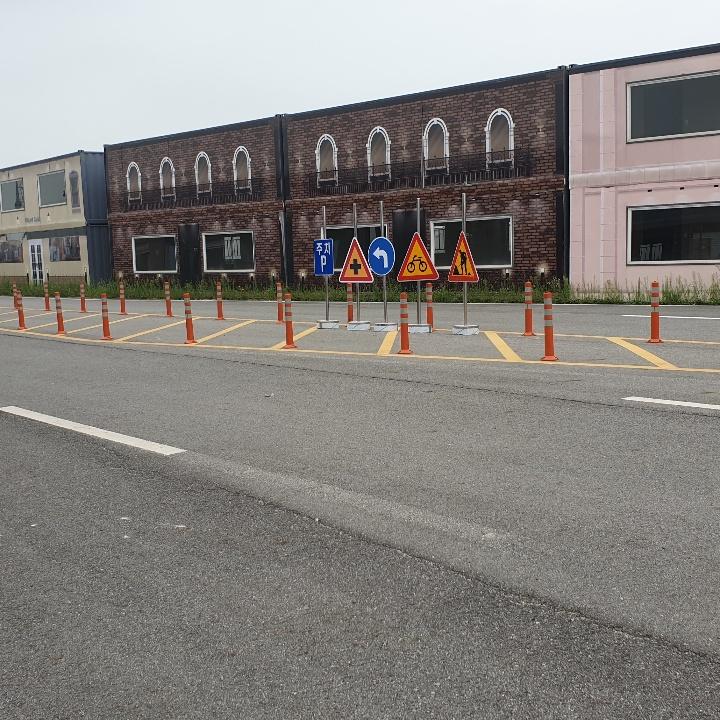bicycle: (397, 234, 438, 280)
const: (449, 244, 479, 276)
inter: (345, 256, 365, 278)
left: (367, 241, 392, 267)
parking: (314, 251, 332, 270)
